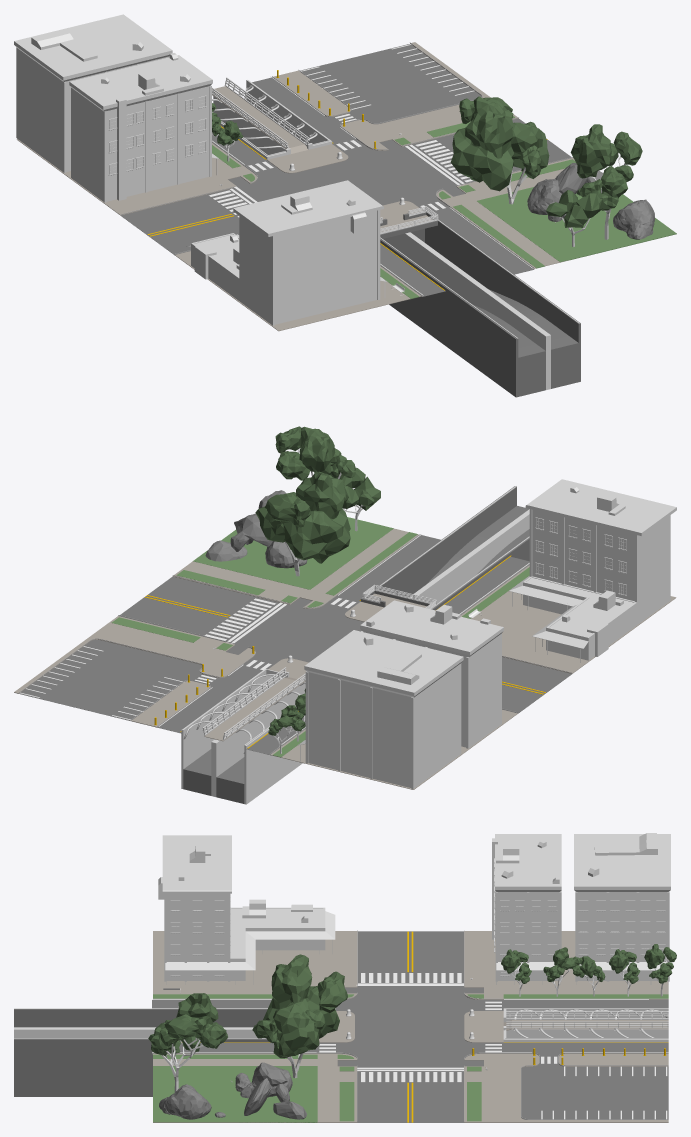
File: City_Intersection.fbx
3 views of the same model, one above another, from view 1: azimuth 30°, elevation 25°; view 2: azimuth 150°, elevation 25°; view 3: azimuth 270°, elevation 25° (orthographic).
Visible parts, largest first — view 1: Tree 01, Plane.015, Plane.101, W PARKING LINE.003, Plane.081, Plane.013; view 2: Tree 01, Plane.015, Plane.101, W PARKING LINE.003, Plane.094, Plane.013; view 3: Tree 01, Plane.015, Plane.101, W PARKING LINE.003, Plane.052, Plane.043, Plane.023, Plane.013, W PARKING LINE.002.
Part boxes in pixels (bbox=[...]): Tree 01: bbox=[17, 42, 676, 331]; Plane.015: bbox=[14, 14, 387, 325]; Plane.101: bbox=[212, 77, 580, 397]; W PARKING LINE.003: bbox=[120, 42, 602, 295]; Plane.081: bbox=[108, 95, 206, 176]; Plane.013: bbox=[380, 211, 579, 338]; Tree 01: bbox=[14, 426, 676, 789]; Plane.015: bbox=[298, 479, 676, 788]; Plane.101: bbox=[181, 486, 529, 804]; W PARKING LINE.003: bbox=[19, 467, 571, 753]; Plane.094: bbox=[535, 517, 626, 596]; Plane.013: bbox=[362, 486, 529, 609]; Tree 01: bbox=[150, 931, 676, 1122]; Plane.015: bbox=[158, 833, 670, 981]; Plane.101: bbox=[14, 1008, 668, 1096]; W PARKING LINE.003: bbox=[148, 930, 668, 1121]; Plane.052: bbox=[578, 900, 665, 956]; Plane.043: bbox=[500, 900, 557, 976]; Plane.023: bbox=[170, 900, 224, 977]; Plane.013: bbox=[14, 1008, 267, 1038]; W PARKING LINE.002: bbox=[152, 999, 668, 1052].
Bounding box in the file's own units: 5684 × 2236 × 8210.
